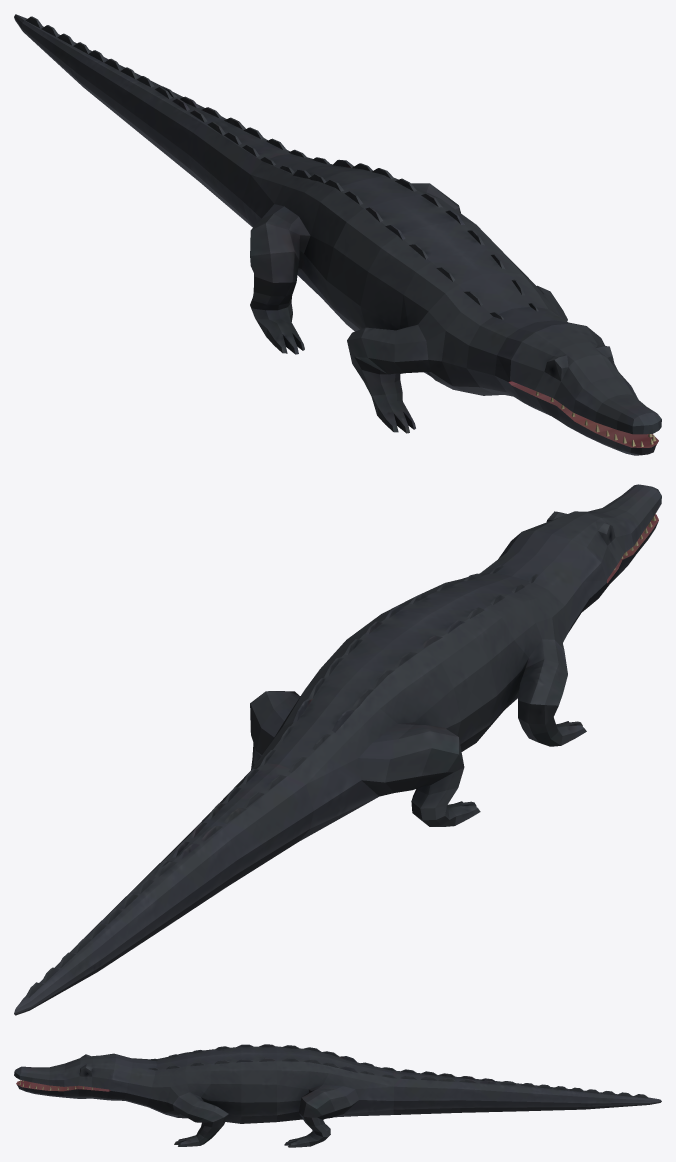
File: animals-black-caiman-021.glb
3 renders of one model, top to bottom at view 1: azimuth 30°, elevation 25°; view 2: azimuth 150°, elevation 25°; view 3: azimuth 270°, elevation 25°, orthographic. The views are drawn at different scales.
Visible parts, largest first — view 1: BlackCaiman_mesh; view 2: BlackCaiman_mesh; view 3: BlackCaiman_mesh.
Part boxes in pixels (x1=…): BlackCaiman_mesh: x1=14, y1=14, x2=661, y2=455; BlackCaiman_mesh: x1=14, y1=484, x2=661, y2=1015; BlackCaiman_mesh: x1=14, y1=1044, x2=661, y2=1147.
Size of the model in its own units: 3.4 by 2.19 by 17.97.
1 material, 1 textured.
